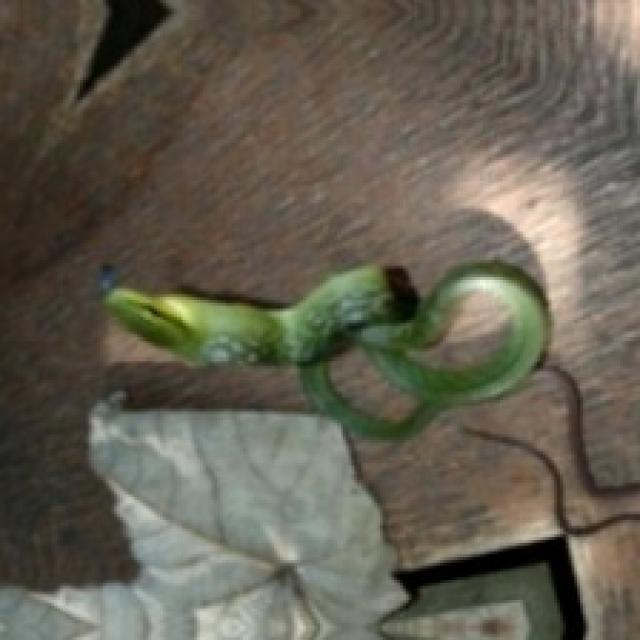red-tailed green ratsnake: (100, 260, 549, 437), (100, 266, 417, 363)
